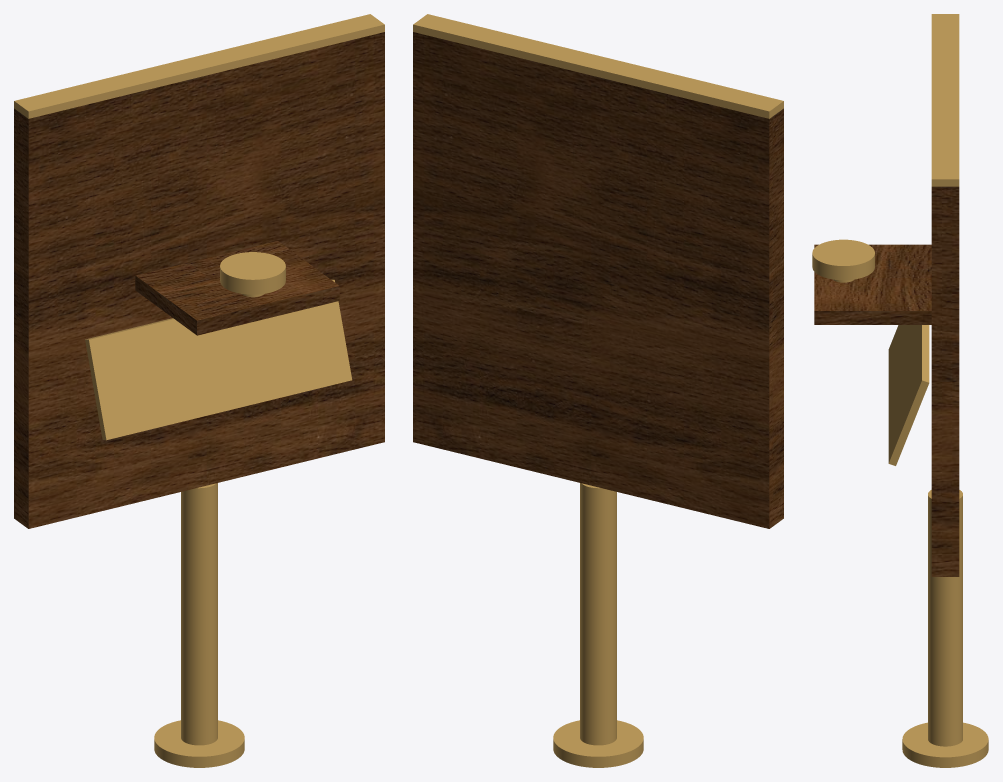
The model's file is selector.glb.
3 renders of one model, left to right at view 1: azimuth 30°, elevation 25°; view 2: azimuth 150°, elevation 25°; view 3: azimuth 270°, elevation 25°, orthographic. The views are drawn at different scales.
Visible parts, largest first — view 1: selector; view 2: selector; view 3: selector.
Boxes of the visible parts, x1=… form: selector: x1=14, y1=14, x2=384, y2=767; selector: x1=413, y1=14, x2=783, y2=767; selector: x1=812, y1=14, x2=988, y2=767.
Size of the model in its own units: 0.2 by 0.368 by 0.09.
2 materials, 1 textured.
